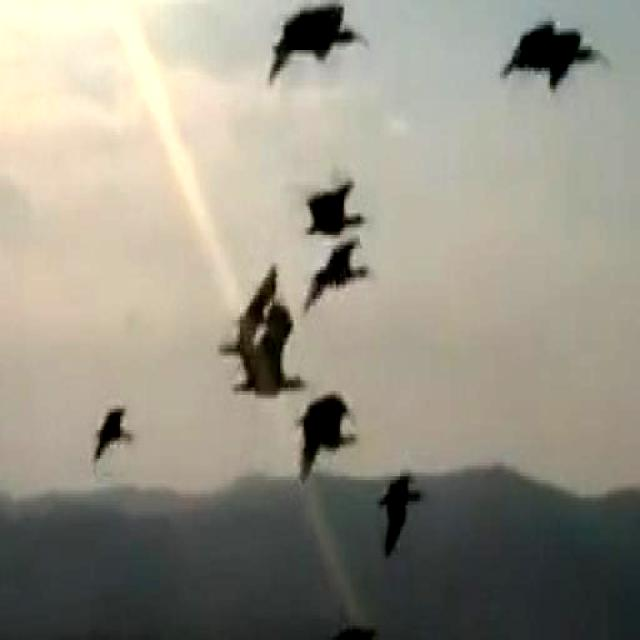airplane: (492, 12, 619, 109), (259, 0, 360, 74), (304, 142, 376, 241), (84, 389, 146, 469), (376, 462, 425, 556)
